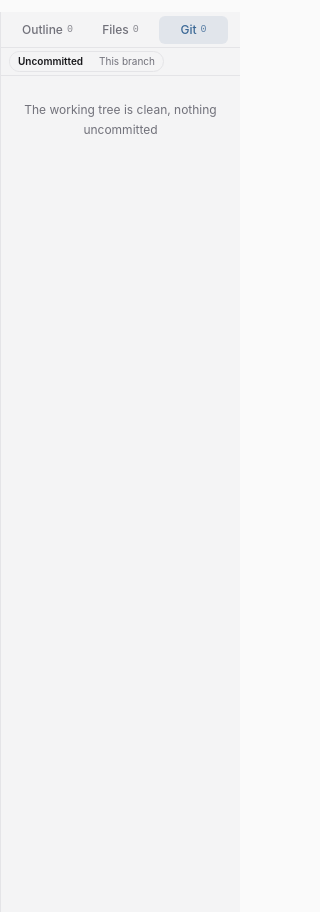
Test: Git tab · 本分支档与基线 › switches to the branch scope and shows the effective baseline in the context bar
This screenshot has width=320, height=912.
Click the tab "This branch". click: (127, 62)
box: [91,52,163,71]
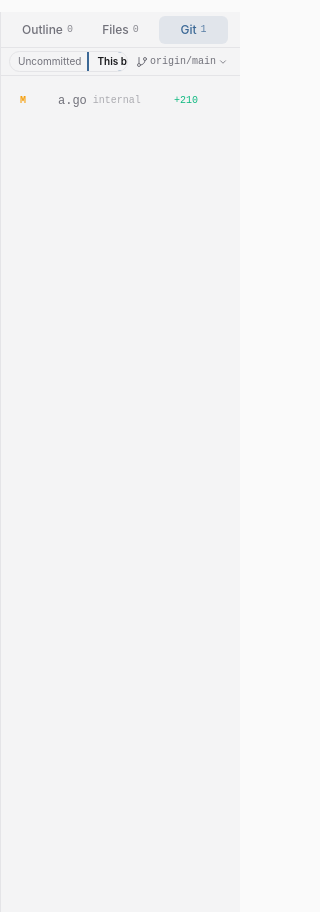
Check: the button with aria-label "Compare against: origin/main" reads "origin/main", box [132,52,232,71]
